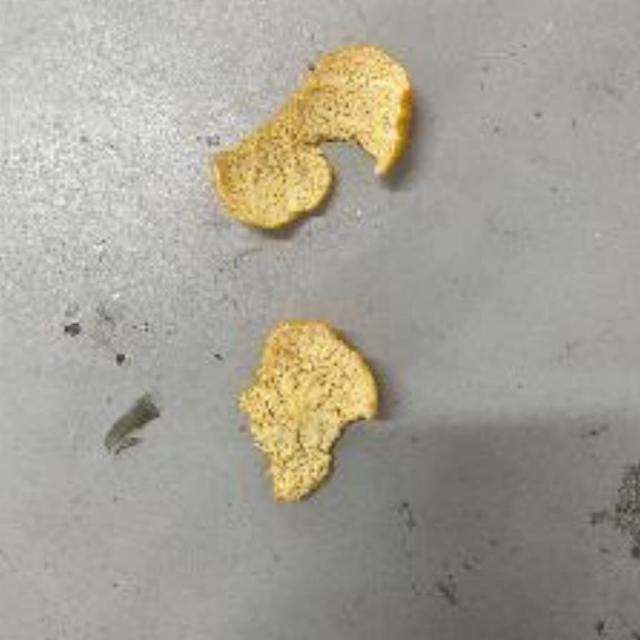orange peel: (207, 40, 422, 232), (234, 318, 380, 496)
